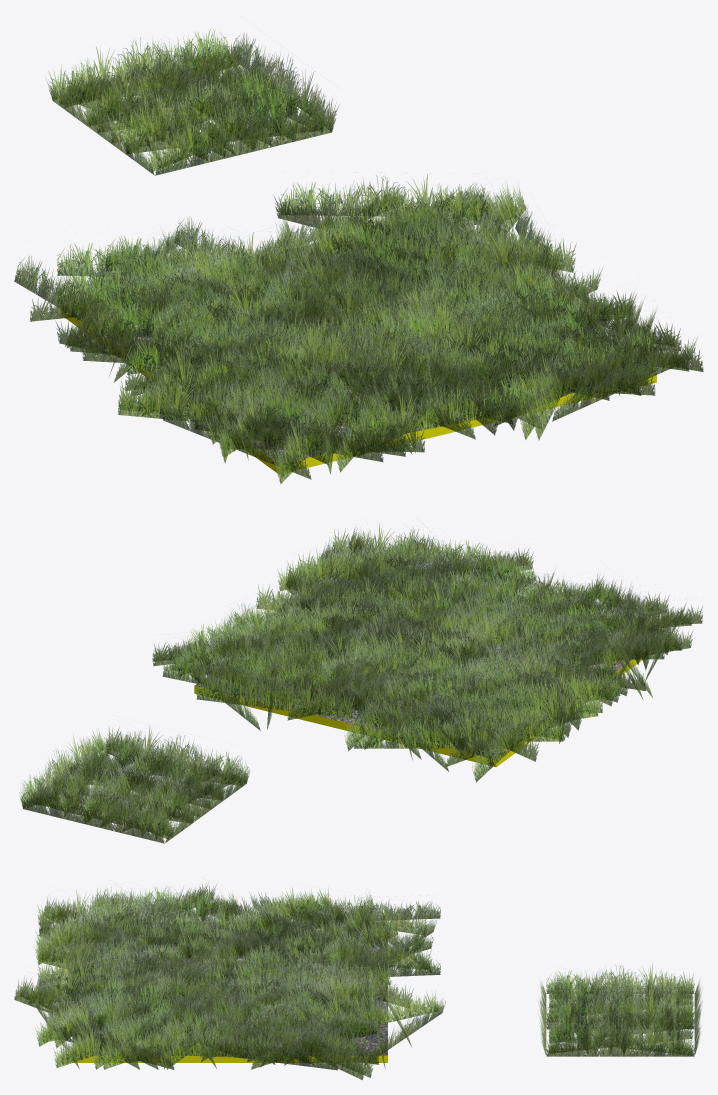
File: Grass.fbx
3 views of the same model, one above another, from view 1: azimuth 30°, elevation 25°; view 2: azimuth 150°, elevation 25°; view 3: azimuth 270°, elevation 25° (orthographic). The views are drawn at different scales.
Parts seen in each view (by area): view 1: Листва - Листья Дерева Мелкие, Краска - Кадмий Желтый, Трава - Зеленая; view 2: Листва - Листья Дерева Мелкие, Трава - Зеленая, Краска - Кадмий Желтый; view 3: Листва - Листья Дерева Мелкие, Трава - Зеленая, Краска - Кадмий Желтый.
Boxes of the visible parts, x1,y1,x2,y2 form: Листва - Листья Дерева Мелкие: [14, 29, 703, 484]; Краска - Кадмий Желтый: [61, 310, 656, 474]; Трава - Зеленая: [75, 217, 656, 462]; Листва - Листья Дерева Мелкие: [19, 523, 702, 843]; Трава - Зеленая: [194, 562, 669, 758]; Краска - Кадмий Желтый: [194, 633, 669, 766]; Листва - Листья Дерева Мелкие: [14, 882, 702, 1080]; Трава - Зеленая: [72, 922, 387, 1055]; Краска - Кадмий Желтый: [73, 1055, 387, 1062].
Bounding box in the file's own units: 274 × 437 × 24.51.
Materials: 3 (2 with a texture image).
